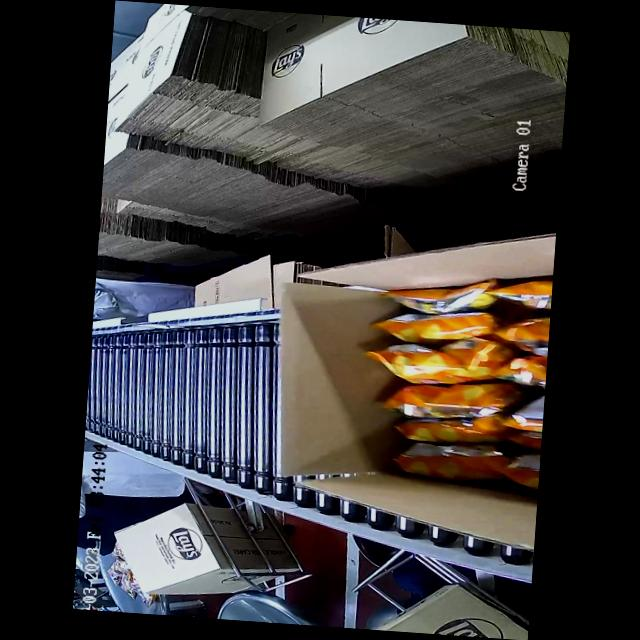cheese: (356, 252, 552, 498)
